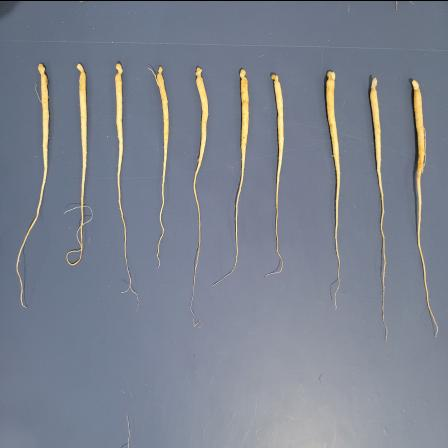Ginseng: (15, 55, 51, 307), (212, 60, 251, 286), (410, 74, 438, 338), (60, 56, 94, 266), (112, 54, 140, 304), (188, 60, 212, 327), (366, 72, 388, 340), (262, 68, 286, 276), (323, 63, 343, 311), (154, 56, 170, 266)
head: (75, 61, 87, 77), (38, 61, 48, 76), (114, 62, 124, 76), (326, 70, 336, 84), (411, 78, 421, 92), (194, 66, 202, 80), (240, 67, 247, 82), (370, 76, 377, 91), (270, 72, 280, 82), (156, 64, 164, 76)
